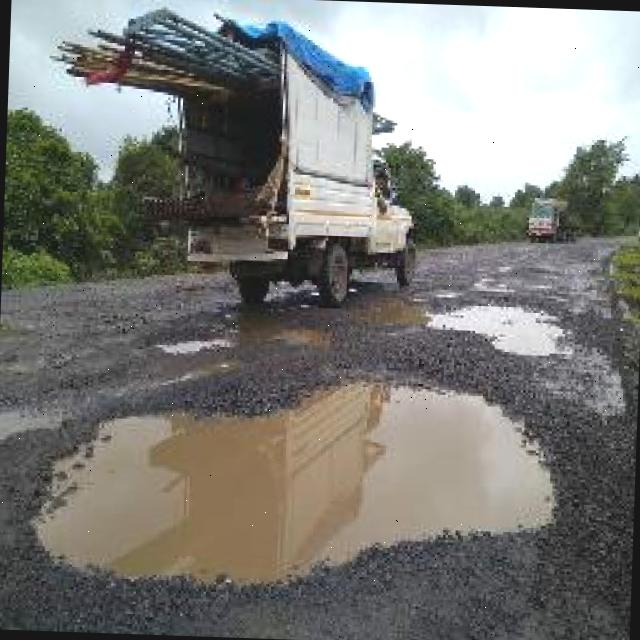stagnation: (0, 344, 592, 603), (410, 286, 576, 369), (146, 322, 240, 362)
